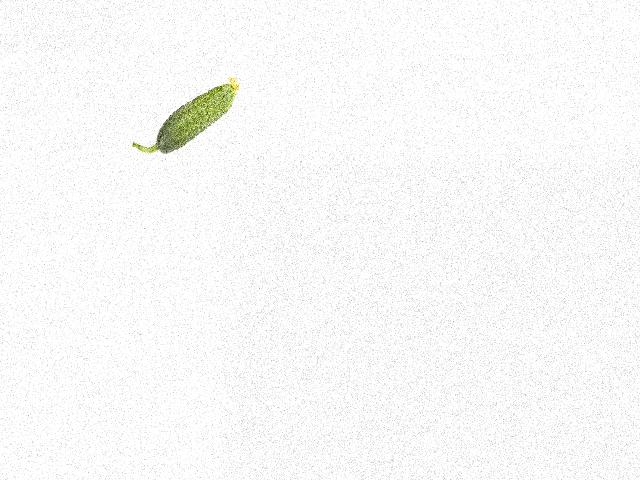cucumber: (133, 76, 240, 154)
